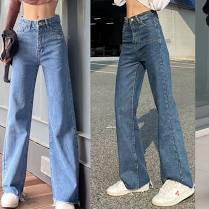pants: (113, 15, 195, 188), (5, 21, 80, 202)
